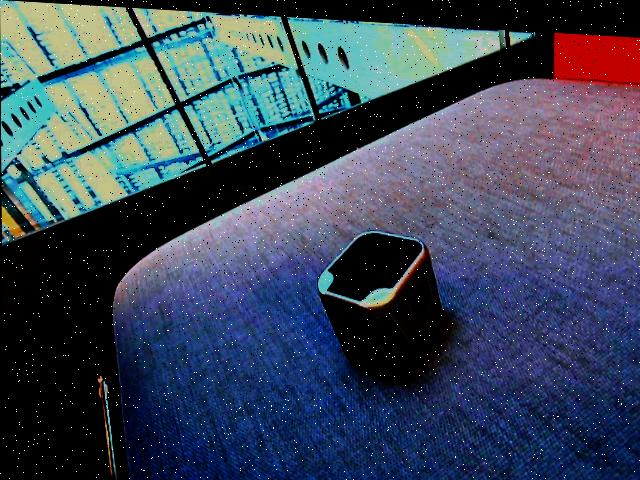adapter: (315, 222, 442, 369)
